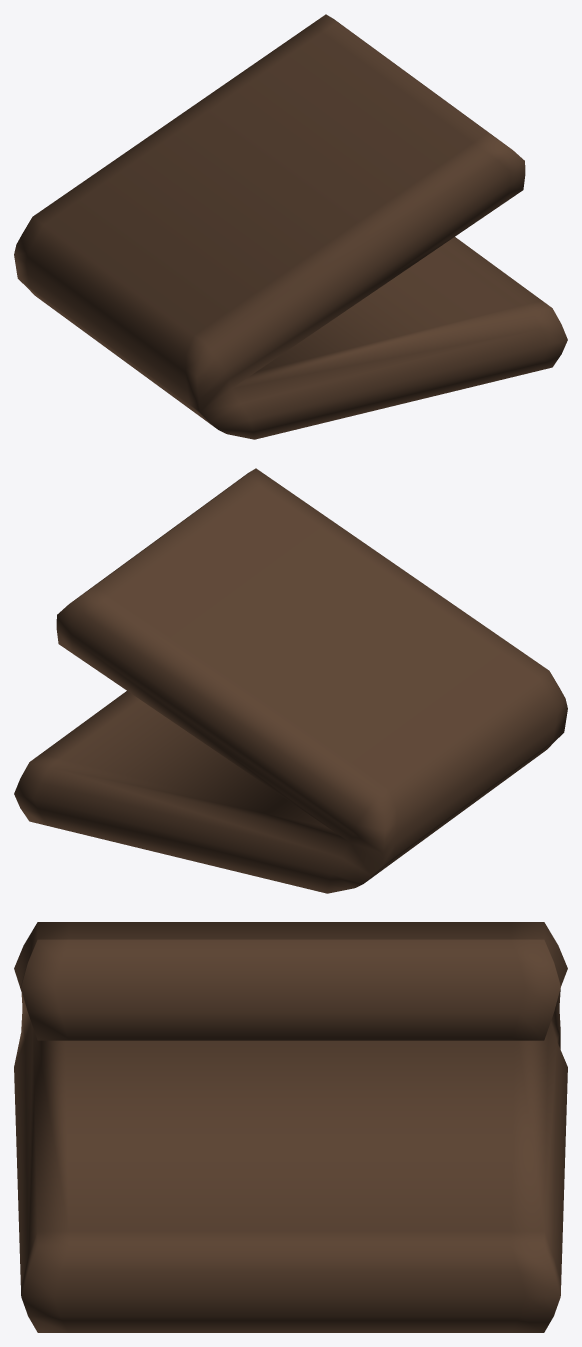
The model's file is Wallet.fbx.
The picture shows the model from 3 angles, top to bottom: view 1: azimuth 30°, elevation 25°; view 2: azimuth 150°, elevation 25°; view 3: azimuth 270°, elevation 25°; orthographic projection. The views are drawn at different scales.
Visible parts, largest first — view 1: Wallet; view 2: Wallet; view 3: Wallet.
Boxes of the visible parts, x1,y1,x2,y2 form: Wallet: (14, 14, 567, 439); Wallet: (14, 468, 567, 893); Wallet: (14, 922, 567, 1332).
Size of the model in its own units: 11.08 by 6.87 by 9.75.
